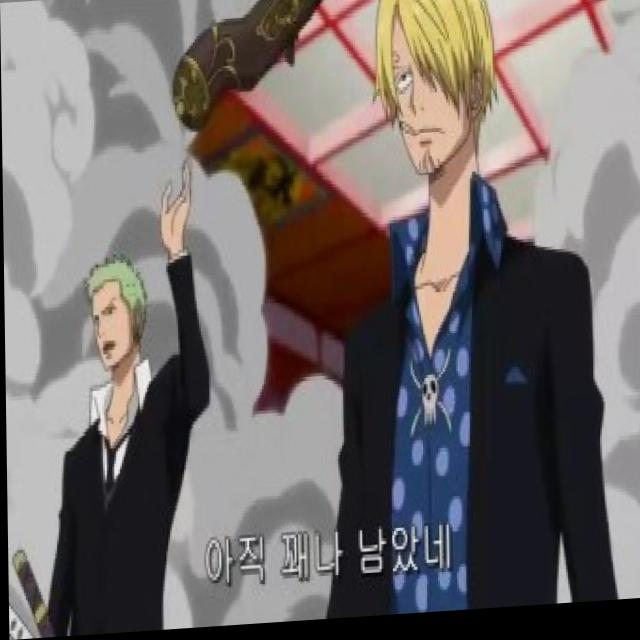Sangdi: (364, 0, 498, 182)
Zoro: (78, 251, 154, 383)
